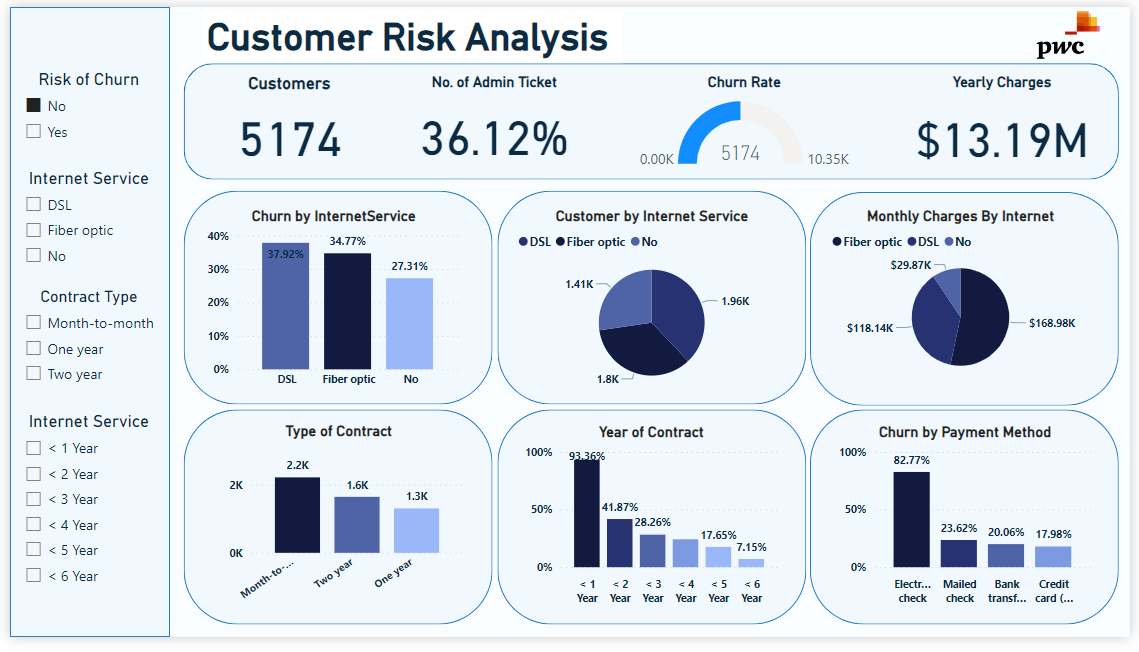

The dashboard page shown, as its layout file describes it:
{"tool":"powerbi","page":{"name":"Customer Risk Analysis","canvas":[1280,720],"ordinal":3},"visuals":[{"type":"shape","box":[198.6,210,352.9,244.3],"z":0},{"type":"shape","box":[198.6,64.3,1068.6,132.9],"z":1000},{"type":"shape","box":[0,0,182.9,720],"z":2000},{"type":"textbox","box":[220,4.3,480,60],"z":3000},{"type":"image","box":[1161.4,0,95.7,64.3],"z":4000},{"type":"card","title":"Customers","fields":{"Values":["CountNonNull(Churn.Customer_ID)"]},"box":[241.4,75.7,155.7,121.4],"z":5000},{"type":"card","title":"No. of Admin Ticket","fields":{"Values":["KPI_Churn.Churn Rate"]},"box":[457,75.7,192.9,121.4],"z":6000},{"type":"card","title":"Yearly Charges","fields":{"Values":["Sum(Churn.TotalCharges)"]},"box":[1028.2,75.6,210.4,121],"z":7000},{"type":"slicer","title":"Risk  of Churn","fields":{"Values":["Churn.Churn"]},"box":[5.7,71.4,168.6,90],"z":8000},{"type":"slicer","title":"Contract Type","fields":{"Values":["Churn.Contract"]},"box":[5.7,320,168.6,142.9],"z":9000},{"type":"gauge","title":"Churn Rate","fields":{"Y":["CountNonNull(Churn.Churn)"]},"box":[709.8,75.7,258.6,121.4],"z":10000},{"type":"columnChart","title":"Churn by InternetService","fields":{"Y":["CountNonNull(Churn.Churn)"],"Category":["Churn.InternetService"]},"box":[220,228.6,300,215.7],"z":11000},{"type":"shape","box":[198.6,460,352.9,245.7],"z":12000},{"type":"shape","box":[556.4,210,352.9,244.3],"z":13000},{"type":"shape","box":[914.3,211.4,352.9,244.3],"z":14000},{"type":"shape","box":[556.4,460,352.9,245.7],"z":15000},{"type":"shape","box":[914.3,460,352.9,245.7],"z":16000},{"type":"pieChart","title":"Customer by Internet Service","fields":{"Category":["Churn.InternetService"],"Y":["CountNonNull(Churn.Customer_ID)"]},"box":[575.7,228.6,315.7,215.7],"z":17000},{"type":"pieChart","title":"Monthly Charges By Internet","fields":{"Y":["Sum(Churn.MonthlyCharges)"],"Category":["Churn.InternetService"]},"box":[934.3,228.6,304.3,202.9],"z":18000},{"type":"columnChart","title":"Type of Contract","fields":{"Y":["CountNonNull(Churn.Churn)"],"Category":["Churn.Contract"]},"box":[225.7,474.3,300,215.7],"z":19000},{"type":"columnChart","title":"Year of Contract","fields":{"Y":["KPI_Churn.Churn Rate"],"Category":["Churn.Loyalty"]},"box":[582.9,475.7,300,215.7],"z":20000},{"type":"columnChart","title":"Churn by Payment Method","fields":{"Y":["KPI_Churn.Churn Rate"],"Category":["Churn.PaymentMethod"]},"box":[941.4,475.7,300,215.7],"z":21000},{"type":"slicer","title":"Internet Service","fields":{"Values":["Churn.InternetService"]},"box":[5.7,184.3,168.6,121.4],"z":22000},{"type":"slicer","title":"Internet Service","fields":{"Values":["Churn.Loyalty"]},"box":[5.7,462.9,168.6,208.6],"z":23000}]}

Visuals, with their boxes in screenshot pixels (x1, y1, x2, y2), scaled from the page's 1280x720 canvas onto the 1139x652 screenshot:
shape: box=[177, 190, 491, 411]
shape: box=[177, 58, 1128, 179]
shape: box=[0, 0, 163, 651]
textbox: box=[196, 4, 623, 58]
image: box=[1033, 0, 1119, 58]
"Customers" card: box=[215, 69, 353, 178]
"No. of Admin Ticket" card: box=[407, 69, 578, 178]
"Yearly Charges" card: box=[915, 68, 1102, 178]
"Risk  of Churn" slicer: box=[5, 65, 155, 146]
"Contract Type" slicer: box=[5, 290, 155, 419]
"Churn Rate" gauge: box=[632, 69, 862, 178]
"Churn by InternetService" columnChart: box=[196, 207, 463, 402]
shape: box=[177, 417, 491, 639]
shape: box=[495, 190, 809, 411]
shape: box=[814, 191, 1128, 413]
shape: box=[495, 417, 809, 639]
shape: box=[814, 417, 1128, 639]
"Customer by Internet Service" pieChart: box=[512, 207, 793, 402]
"Monthly Charges By Internet" pieChart: box=[831, 207, 1102, 391]
"Type of Contract" columnChart: box=[201, 430, 468, 625]
"Year of Contract" columnChart: box=[519, 431, 786, 626]
"Churn by Payment Method" columnChart: box=[838, 431, 1105, 626]
"Internet Service" slicer: box=[5, 167, 155, 277]
"Internet Service" slicer: box=[5, 419, 155, 608]
